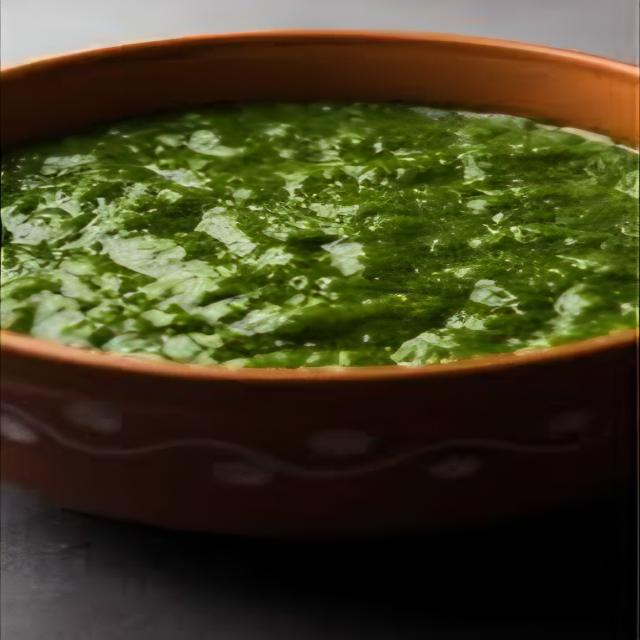GREEN CHUTNEY: (2, 104, 636, 368)
